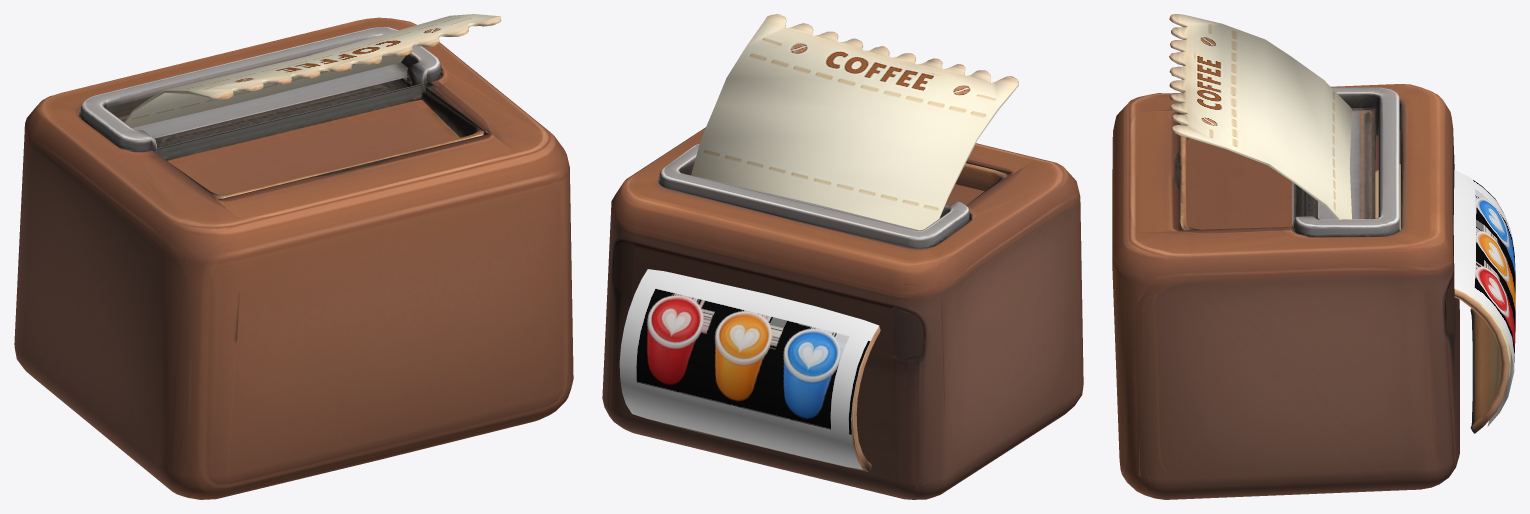
File: ReceiptPrinter.fbx
3 views of the same model, side by side, from view 1: azimuth 30°, elevation 25°; view 2: azimuth 150°, elevation 25°; view 3: azimuth 270°, elevation 25° (orthographic). The views are drawn at different scales.
Parts seen in each view (by area): view 1: ReceiptPrinter; view 2: ReceiptPrinter; view 3: ReceiptPrinter.
Boxes of the visible parts, x1,y1,x2,y2 form: ReceiptPrinter: (14, 14, 573, 499); ReceiptPrinter: (602, 14, 1083, 499); ReceiptPrinter: (1112, 14, 1515, 499).
Bounding box in the file's own units: 440 × 413 × 421.
